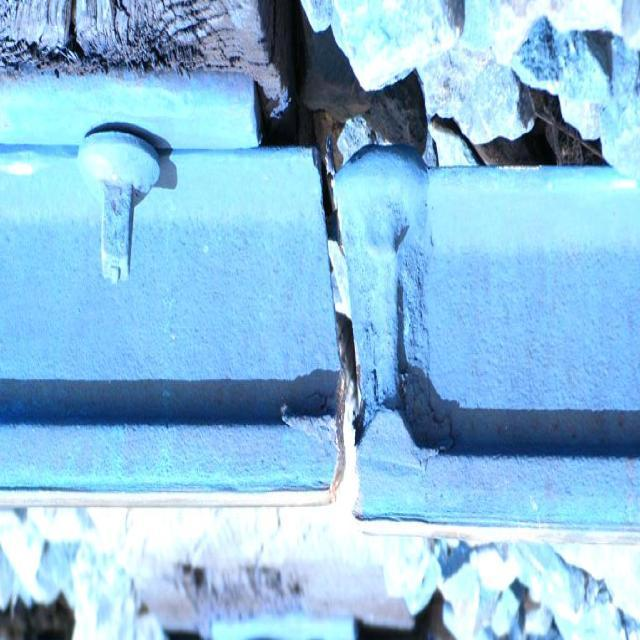Good Fasteners: (70, 124, 162, 292)
